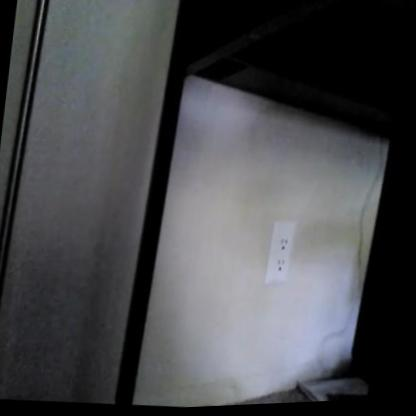OUTLET: (267, 218, 298, 283)
